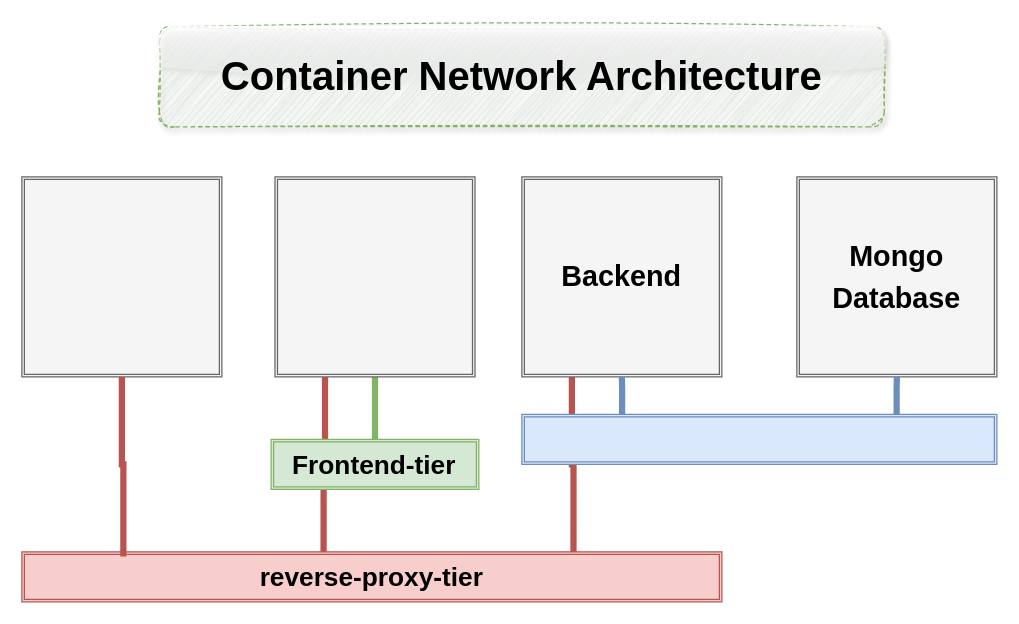
This 1019x624 diagram has some shape labels left out. The centre of each missing label's shape, as x and y in pixels:
"Backend-tier" belongs at [759,438].
"Frontend" belongs at [374,276].
"Reverse Proxy 80:80 443:433" belongs at [121,276].
